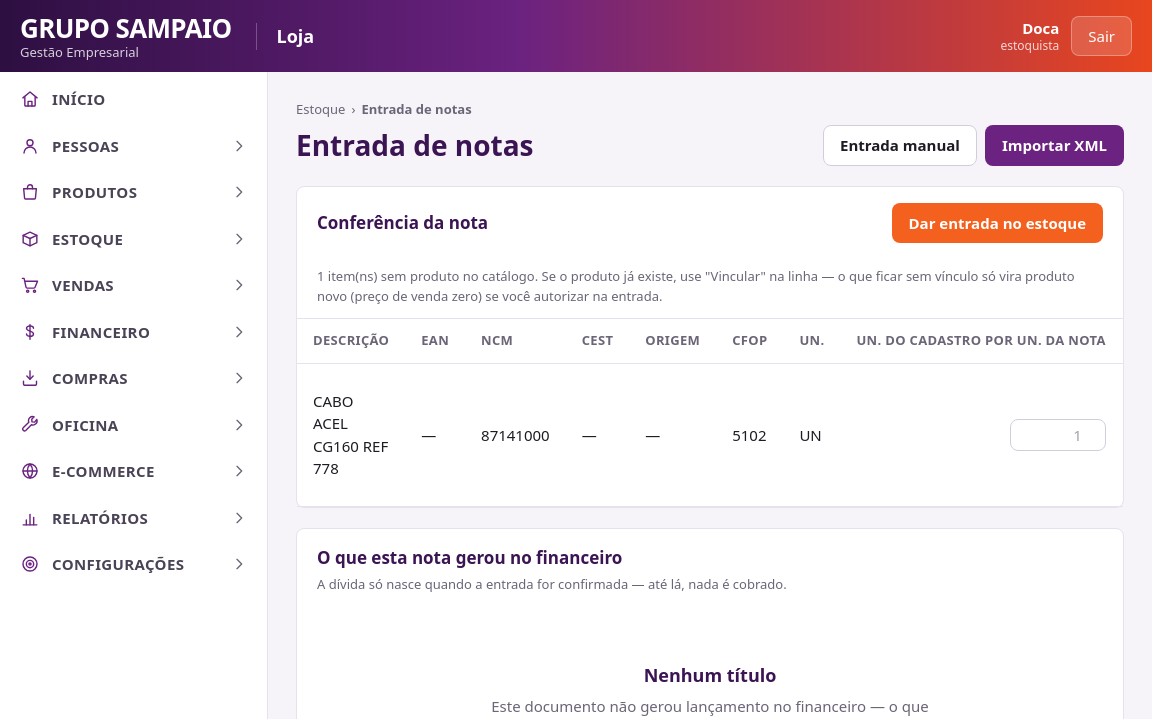
Test: produto novo só nasce com autorização, e com a lista na tela (GAP-PRD-015) › autorizado, a entrada vai com createMissing: true
The width and height of the screenshot is (1152, 719).
expect the text "CABO ACEL CG160 REF 778" is shown: met, box top-left (297, 363), bottom-right (405, 506)
Click the button "Dar entrada no estoque" at coordinates (997, 223), box top-left (892, 202), bottom-right (1103, 243)
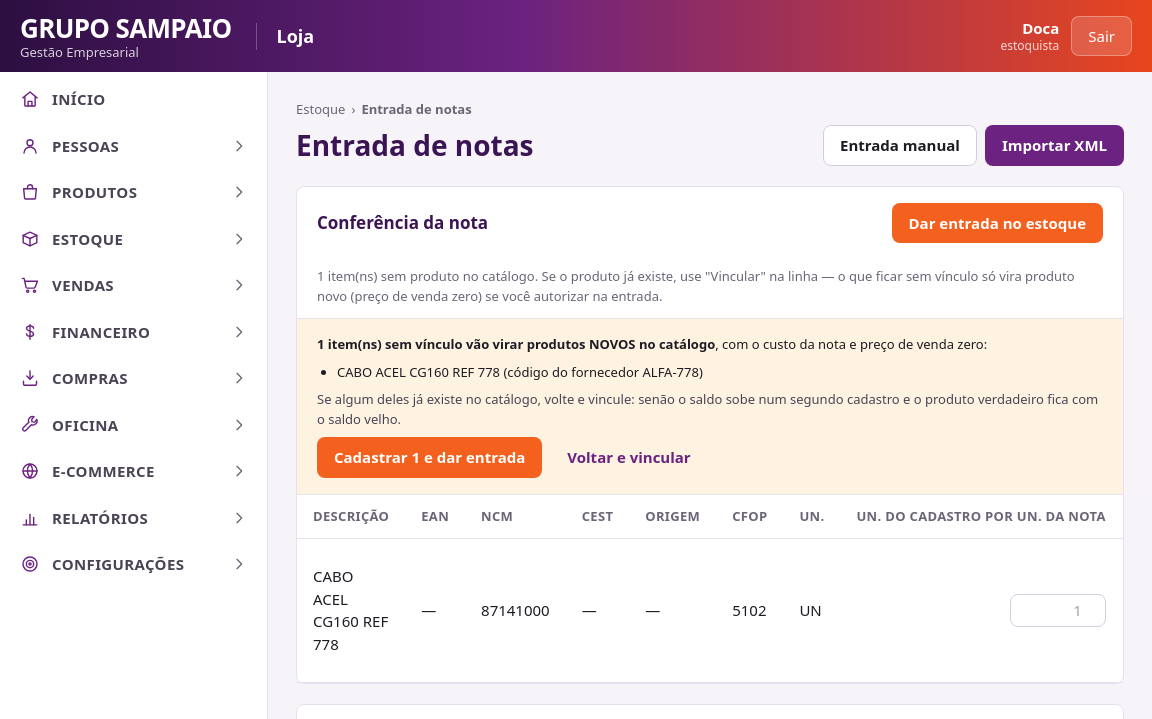
Click the button "Cadastrar 1 e dar entrada" at coordinates (430, 457), box top-left (317, 437), bottom-right (542, 478)
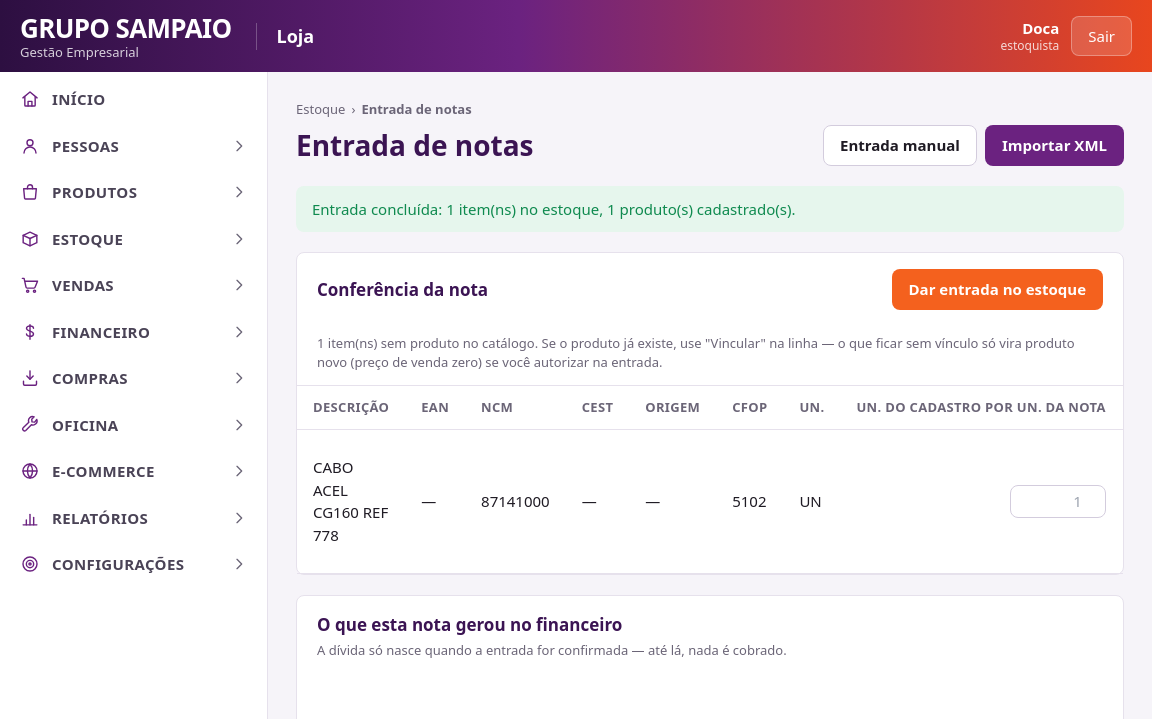
expect the message shows "1 produto(s) cadastrado": met, box top-left (312, 198), bottom-right (796, 218)
